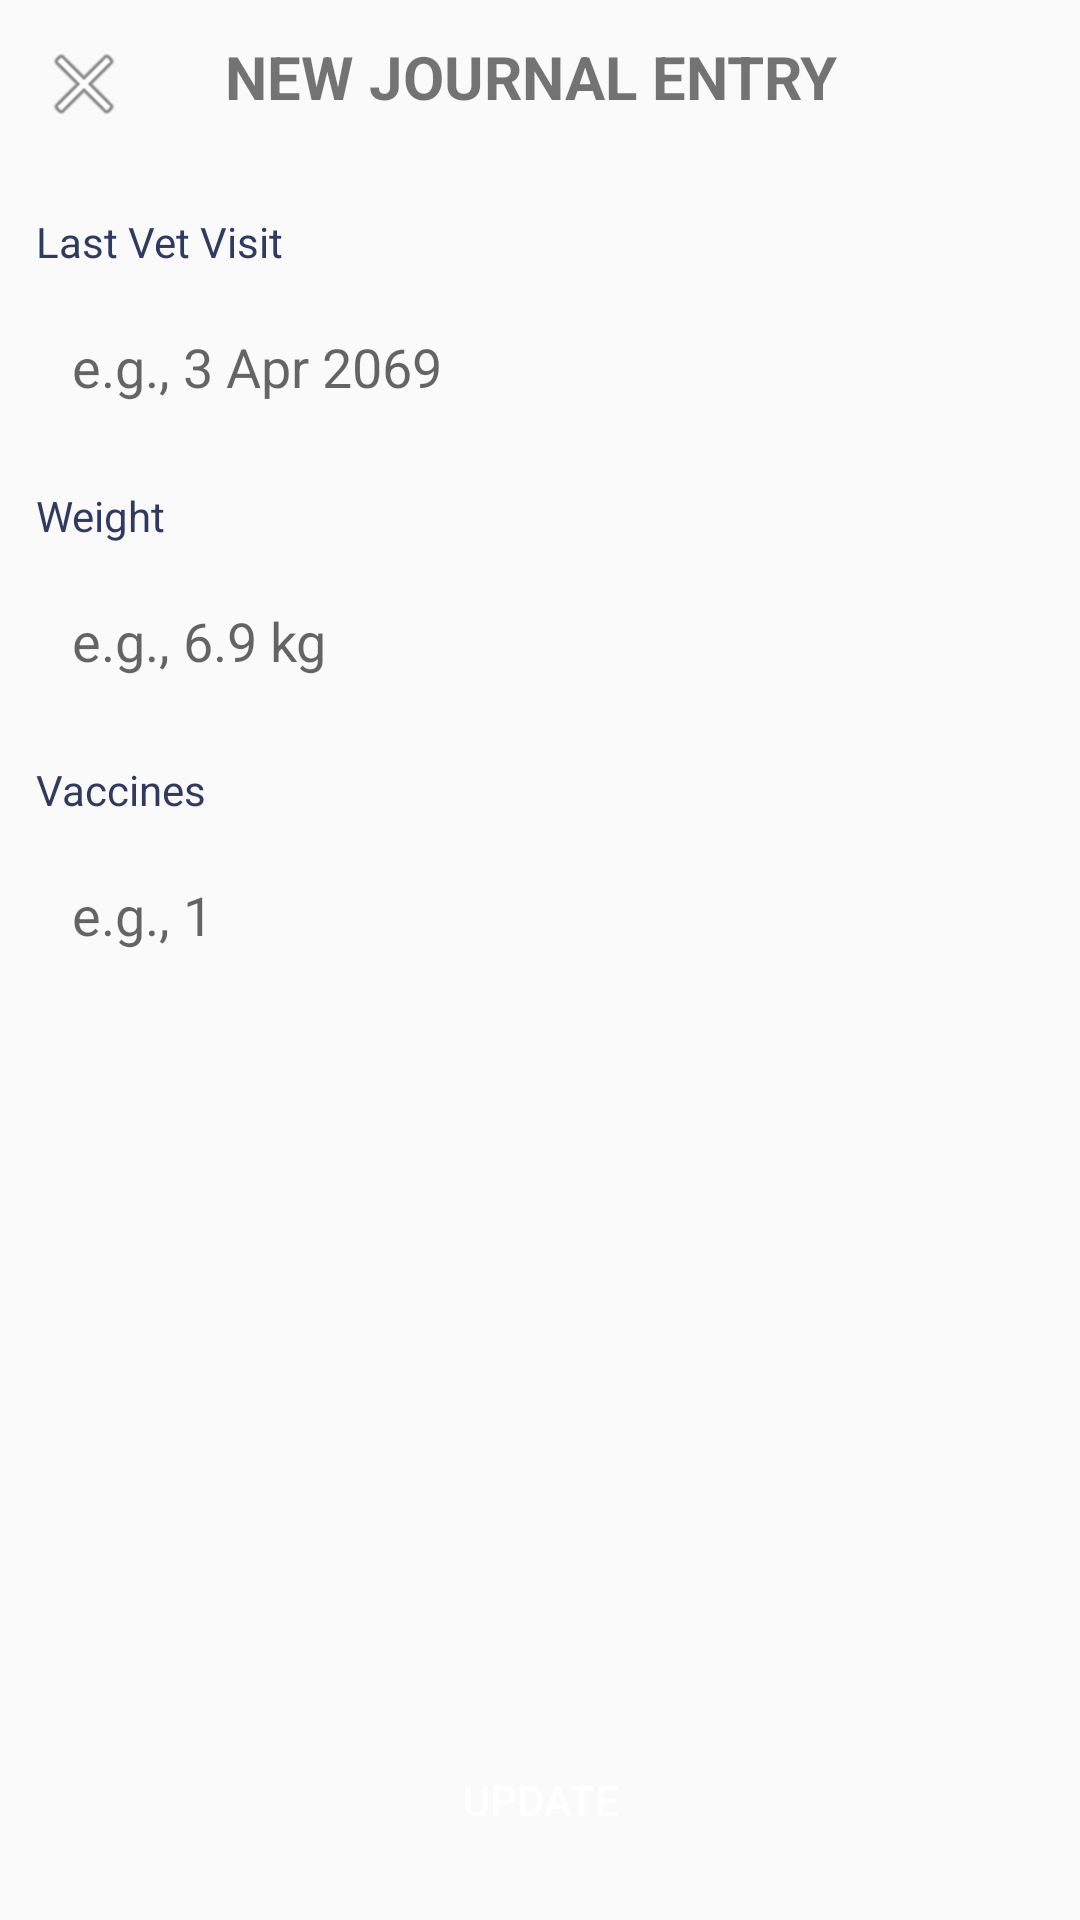

Where icons sit on this 1080 x 1920 app screen, as (left=x1, top=y1, right=x2, bottom=y2):
close clear cancel: (left=54, top=54, right=114, bottom=114)
